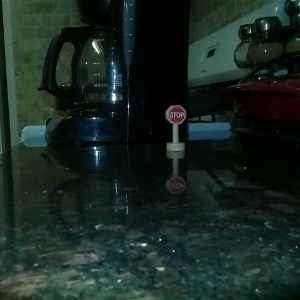stop sign: (161, 102, 190, 156)
